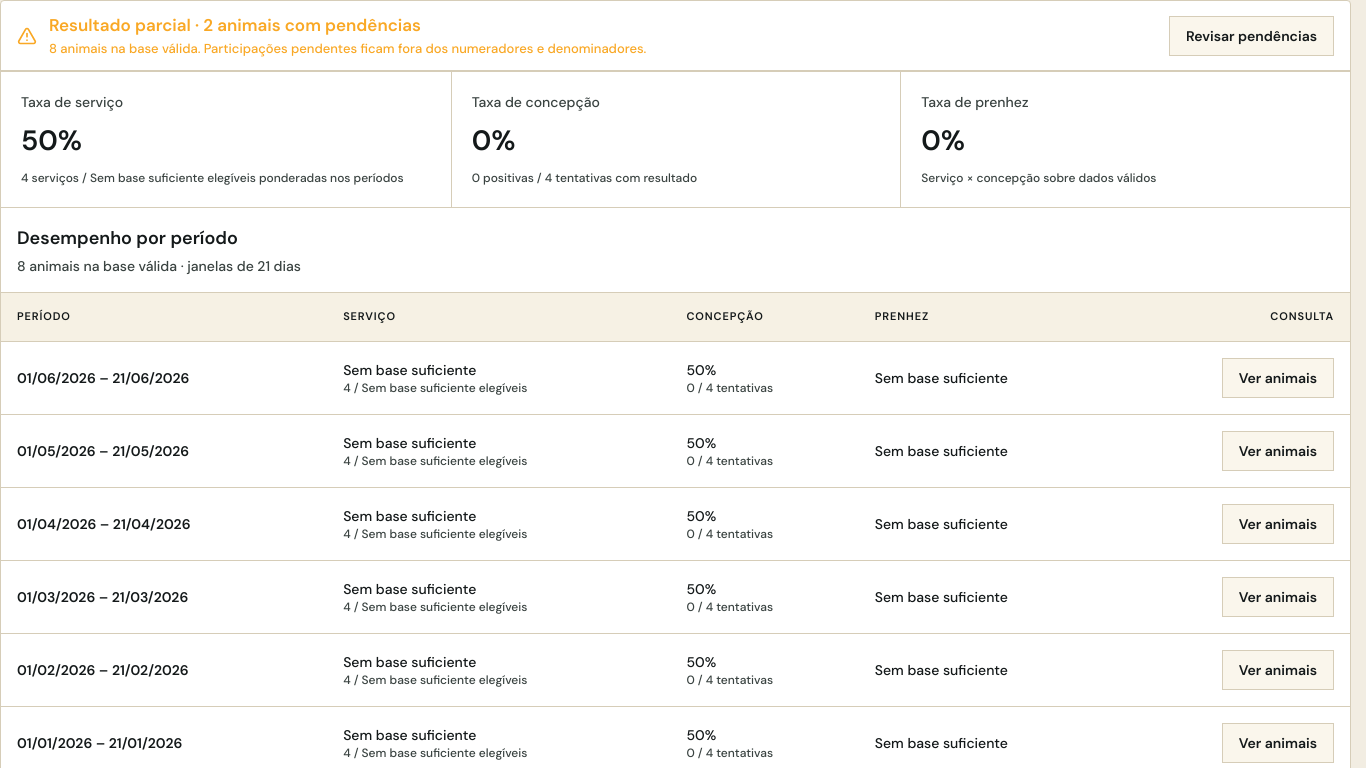
Test case: conserva zero e mostra cobertura parcial com acesso contextualizado
Check: the text "0%" below "Taxa de concepção" is shown, box [472,122,516,159]
Check: the text "0 positivas / 4 tentativas com resultado" is shown, box [472,170,697,186]
Click the button "Revisar pendências" at (1252, 36), box [1169,16,1334,56]
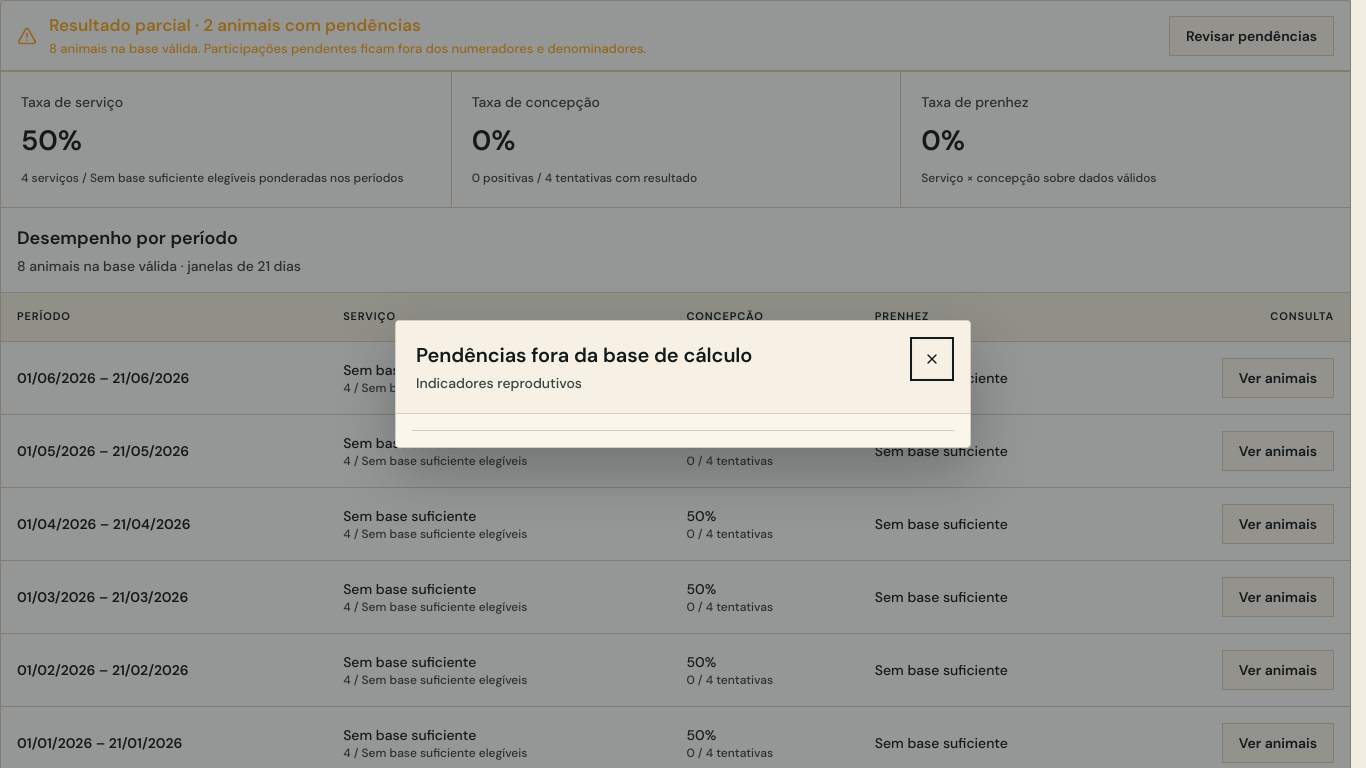
Check: the dialog "Pendências fora da base de cálculo Indicadores reprodutivos" is shown, box [395,320,971,448]
